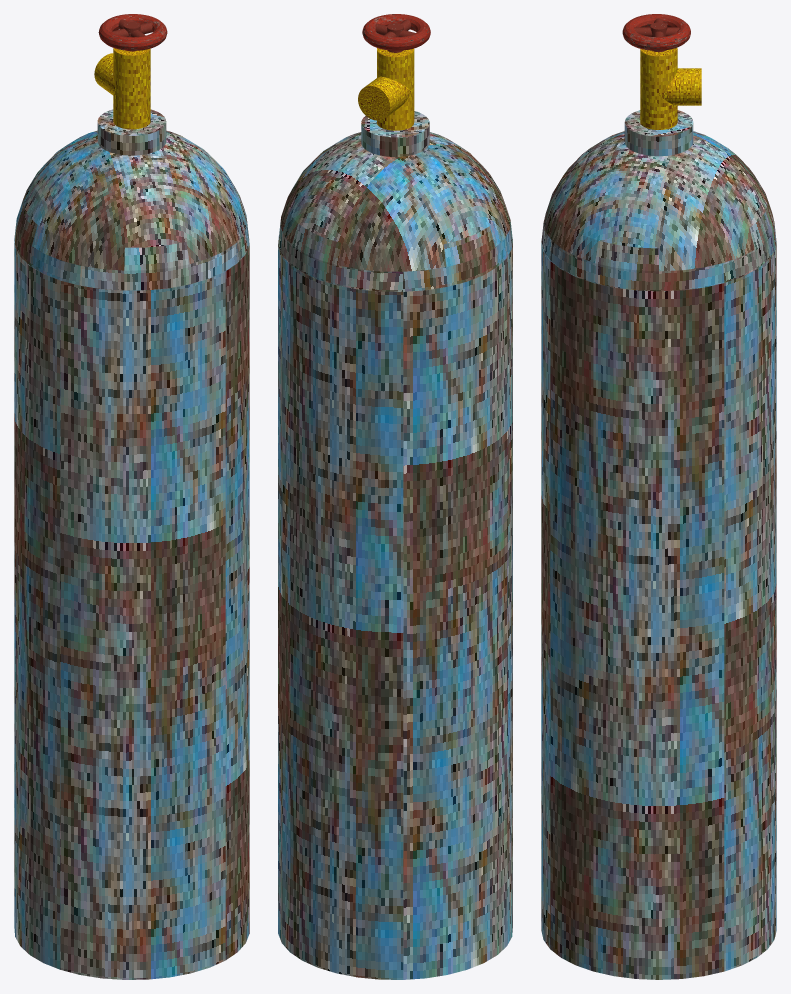
The picture shows the model from 3 angles, left to right: view 1: azimuth 30°, elevation 25°; view 2: azimuth 150°, elevation 25°; view 3: azimuth 270°, elevation 25°; orthographic projection.
Visible parts, largest first — view 1: Цилиндр, Цилиндр.002, Тор; view 2: Цилиндр, Цилиндр.002, Тор; view 3: Цилиндр, Цилиндр.002, Тор.
Boxes of the visible parts, bbox=[...] form: Цилиндр: bbox=[14, 109, 249, 979]; Цилиндр.002: bbox=[94, 48, 150, 129]; Тор: bbox=[98, 14, 167, 51]; Цилиндр: bbox=[278, 111, 512, 979]; Цилиндр.002: bbox=[358, 48, 414, 130]; Тор: bbox=[362, 14, 430, 52]; Цилиндр: bbox=[541, 110, 776, 979]; Цилиндр.002: bbox=[640, 47, 701, 129]; Тор: bbox=[622, 14, 690, 52].
Bounding box in the file's own units: 6.86 × 29.06 × 6.86.
Materials: 3 (3 with a texture image).
